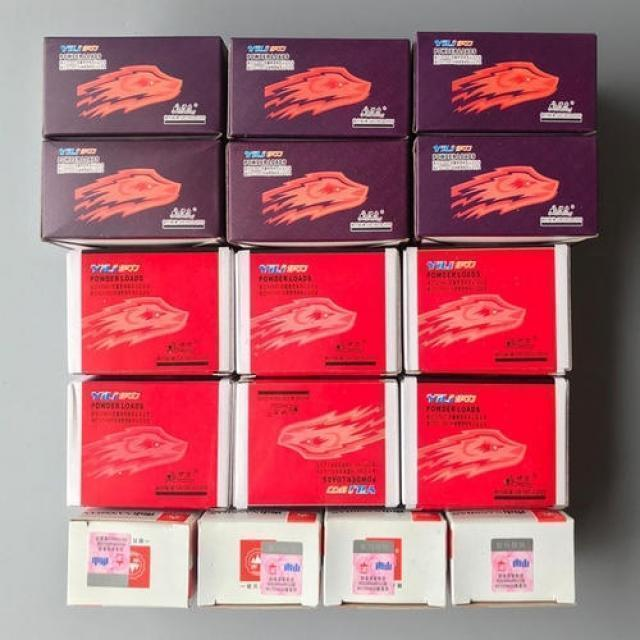box: (66, 374, 235, 509), (400, 377, 568, 510), (232, 375, 398, 509), (403, 247, 571, 375), (411, 134, 597, 249), (235, 251, 403, 377), (40, 139, 229, 250), (226, 139, 412, 251), (66, 249, 233, 373), (41, 36, 228, 139), (410, 31, 597, 134), (227, 37, 411, 139), (66, 505, 204, 608), (439, 509, 574, 607), (321, 509, 448, 609), (197, 509, 321, 608)
